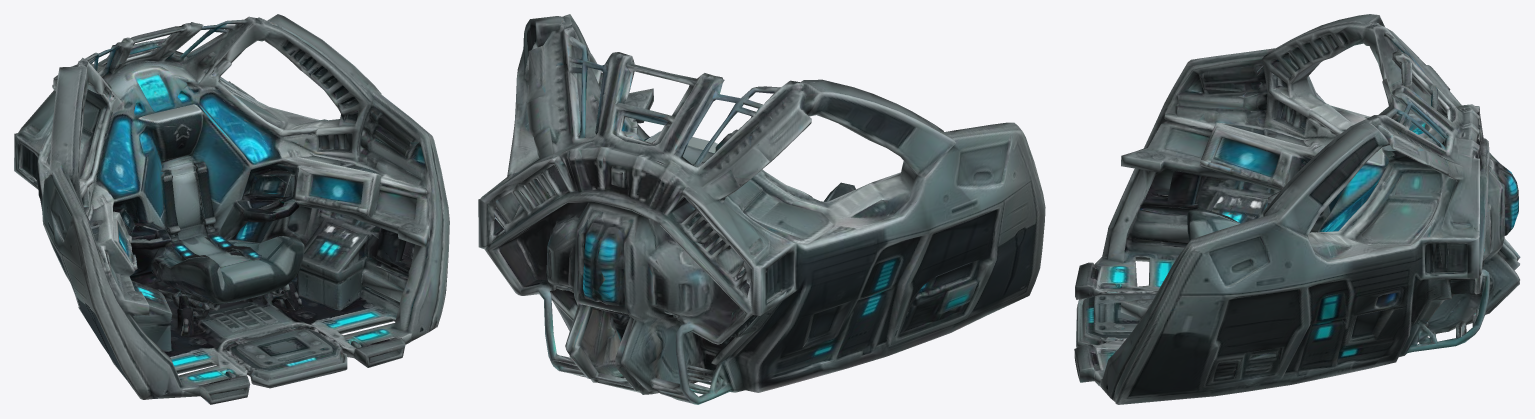
File: fighter_cockpit.repacked.glb
The picture shows the model from 3 angles, left to right: view 1: azimuth 30°, elevation 25°; view 2: azimuth 150°, elevation 25°; view 3: azimuth 270°, elevation 25°; orthographic projection. The views are drawn at different scales.
Parts seen in each view (by area): view 1: Mesh1.0; view 2: Mesh1.0; view 3: Mesh1.0.
Boxes of the visible parts, x1=… form: Mesh1.0: x1=14, y1=14, x2=449, y2=404; Mesh1.0: x1=478, y1=14, x2=1045, y2=404; Mesh1.0: x1=1074, y1=14, x2=1520, y2=404.
Size of the model in its own units: 1.91 by 1.24 by 1.91.
1 material, 1 textured.
